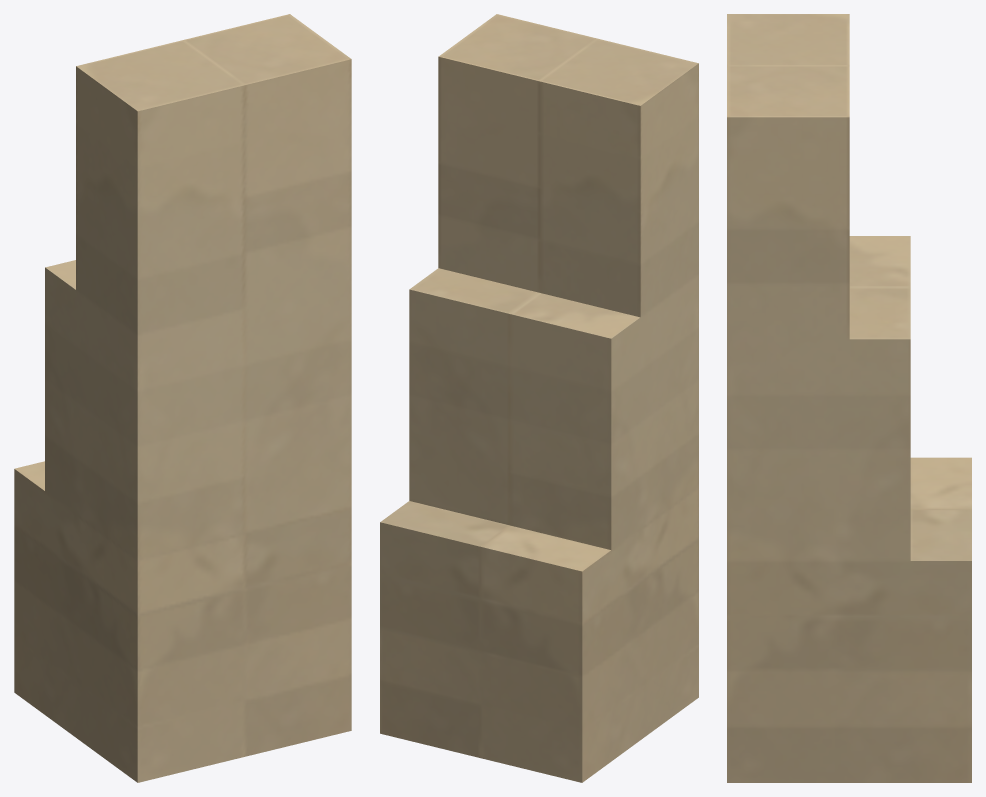
3 renders of one model, left to right at view 1: azimuth 30°, elevation 25°; view 2: azimuth 150°, elevation 25°; view 3: azimuth 270°, elevation 25°, orthographic. The views are drawn at different scales.
Parts seen in each view (by area): view 1: L24_Baked; view 2: L24_Baked; view 3: L24_Baked.
Part boxes in pixels (left/top/right/bottom): L24_Baked: left=14, top=14, right=351, bottom=782; L24_Baked: left=380, top=14, right=698, bottom=782; L24_Baked: left=727, top=14, right=971, bottom=782.
Bounding box in the file's own units: 100 × 300 × 100.
